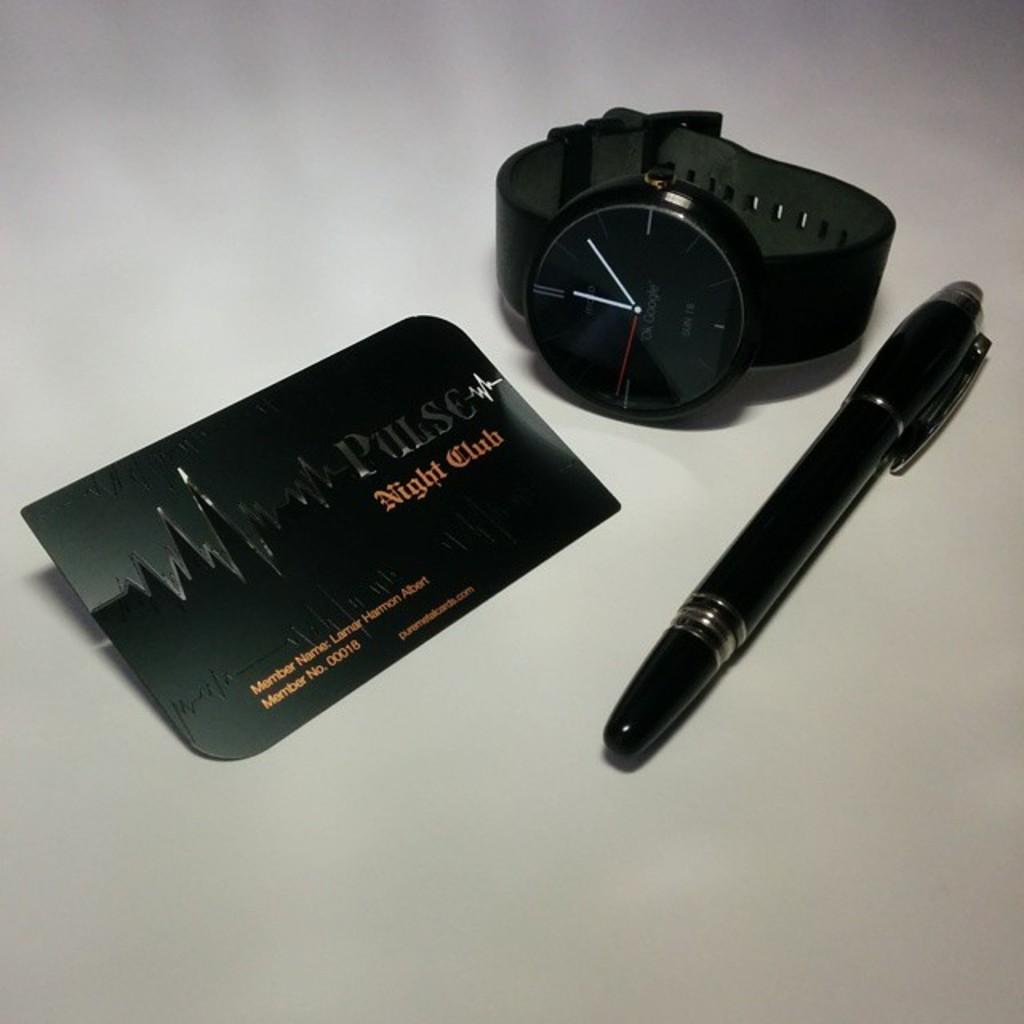pen: (597, 272, 994, 778)
